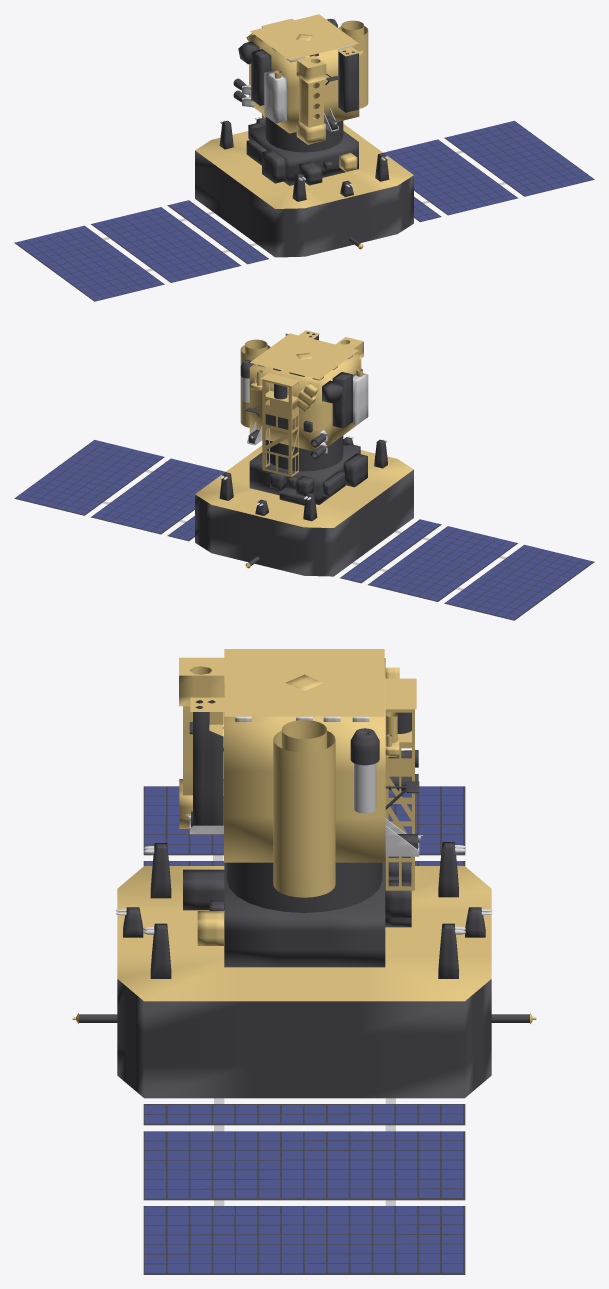
The model's file is soho.glb.
The picture shows the model from 3 angles, top to bottom: view 1: azimuth 30°, elevation 25°; view 2: azimuth 150°, elevation 25°; view 3: azimuth 270°, elevation 25°; orthographic projection. The views are drawn at different scales.
Parts seen in each view (by area): view 1: Fake; view 2: Fake; view 3: Fake.
Part boxes in pixels (x1,y1,x2,y2): Fake: [14, 14, 594, 301]; Fake: [14, 330, 594, 620]; Fake: [72, 649, 536, 1274].
Bounding box in the file's own units: 43.27 × 14.43 × 17.34.
